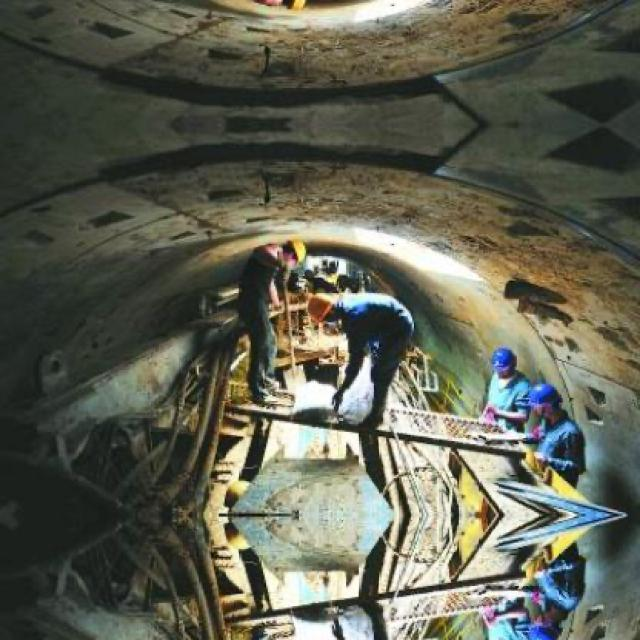con casco: (252, 218, 340, 280), (302, 270, 366, 340), (469, 338, 536, 381), (513, 380, 568, 426)
